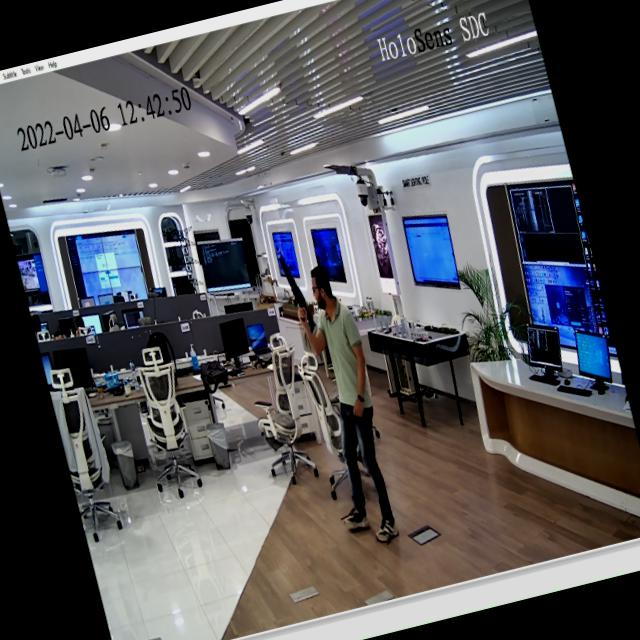long weapon: (267, 235, 323, 349)
